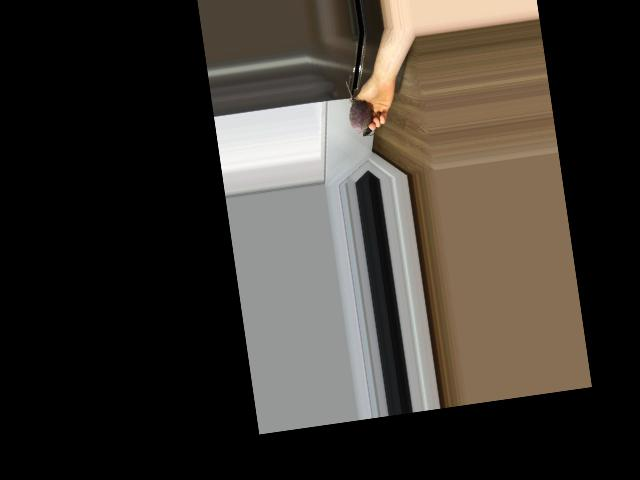beet: (344, 79, 374, 139)
